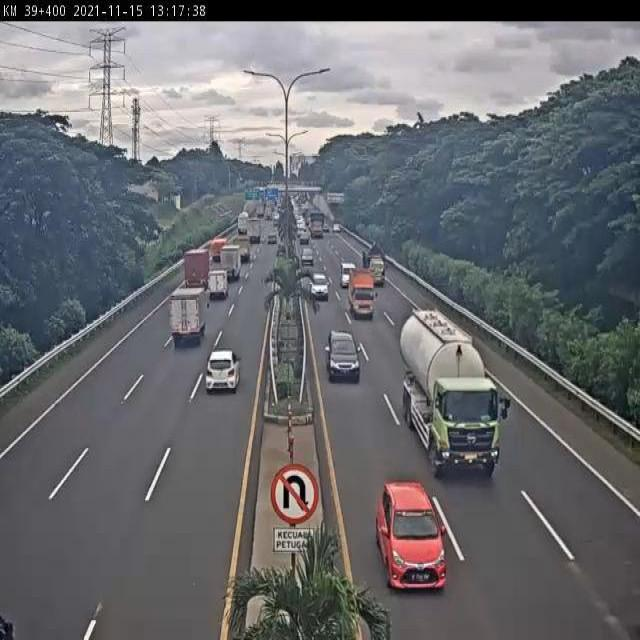car: (372, 481, 450, 592), (327, 328, 362, 383), (204, 351, 241, 392), (310, 272, 329, 297)
truck-l-: (399, 310, 515, 486)
truck-m-: (171, 283, 208, 349), (184, 245, 209, 292), (221, 244, 243, 280)
truck-s-: (348, 265, 374, 320), (364, 241, 387, 288), (208, 266, 231, 298)
